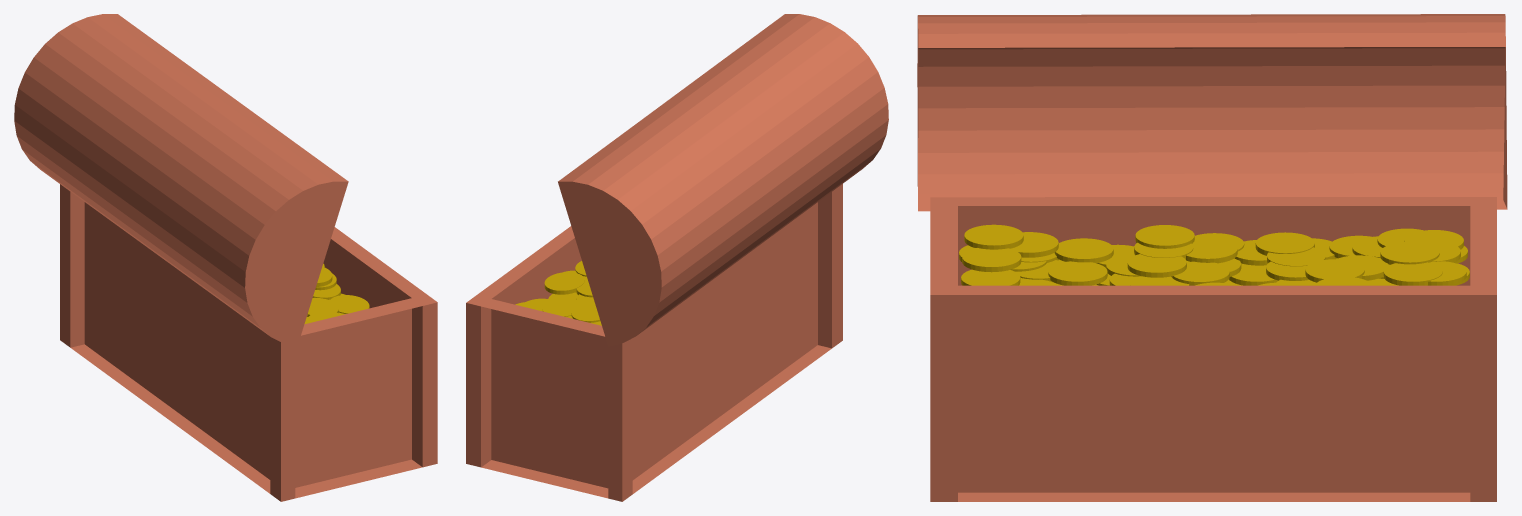
File: Truhe_offen_VK.fbx
3 views of the same model, side by side, from view 1: azimuth 30°, elevation 25°; view 2: azimuth 150°, elevation 25°; view 3: azimuth 270°, elevation 25° (orthographic). The views are drawn at different scales.
Visible parts, largest first — view 1: Cylinder.098; view 2: Cylinder.098; view 3: Cylinder.098.
Boxes of the visible parts, left/top/right/bottom form: Cylinder.098: left=14, top=14, right=437, bottom=501; Cylinder.098: left=466, top=14, right=888, bottom=501; Cylinder.098: left=917, top=14, right=1507, bottom=501.
Bounding box in the file's own units: 100 × 150 × 200.
